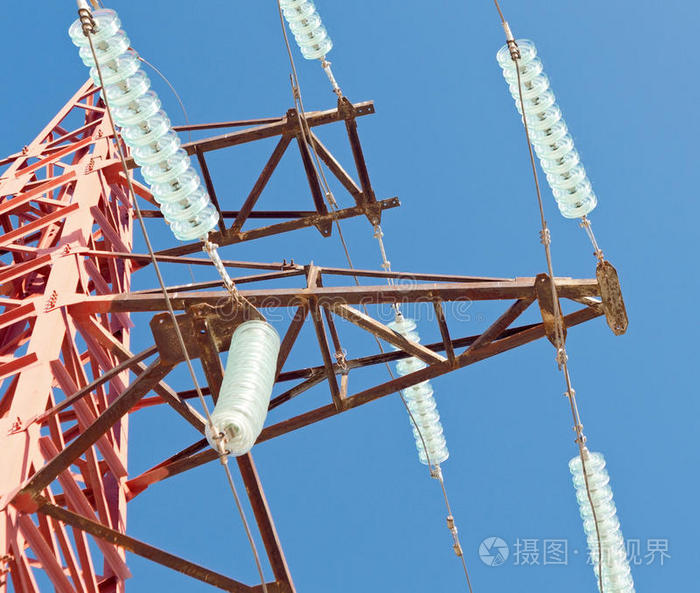insulator: (69, 9, 221, 243), (497, 37, 598, 217), (568, 451, 639, 593), (385, 318, 451, 465), (207, 321, 278, 455), (280, 1, 337, 62)
